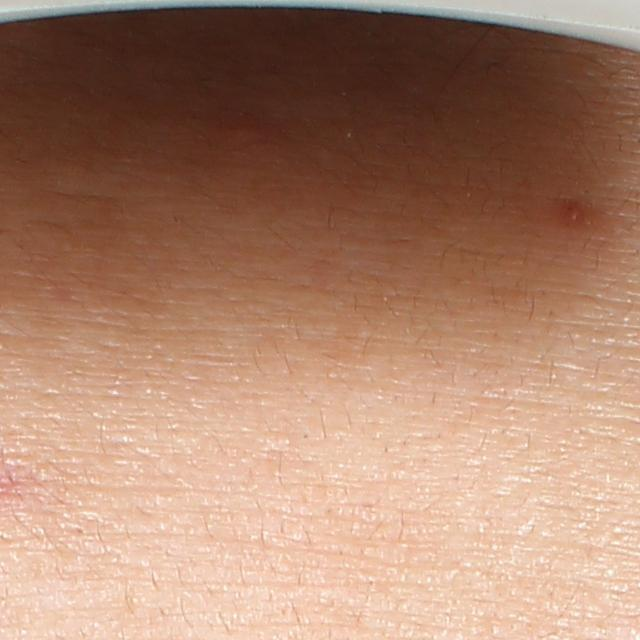papule: (557, 197, 593, 233)
